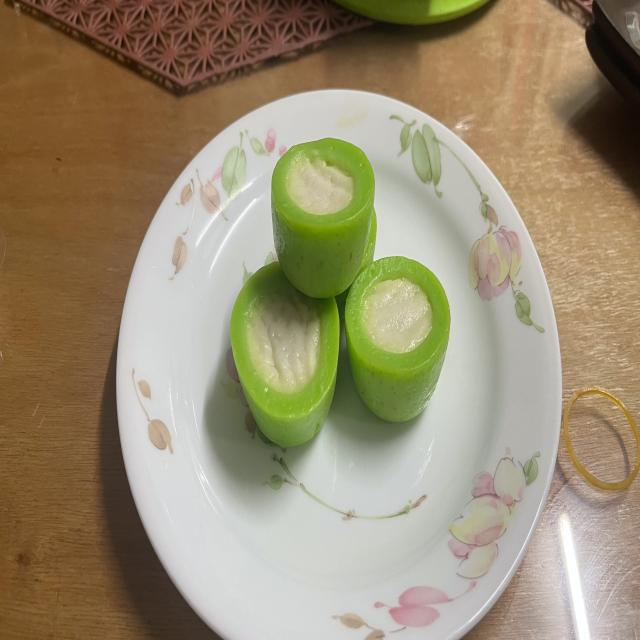nona-manis: (230, 262, 340, 447), (345, 256, 450, 422), (271, 138, 375, 298), (359, 209, 378, 273)
